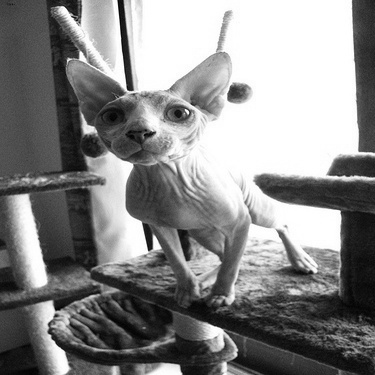cat: (63, 56, 320, 315)
